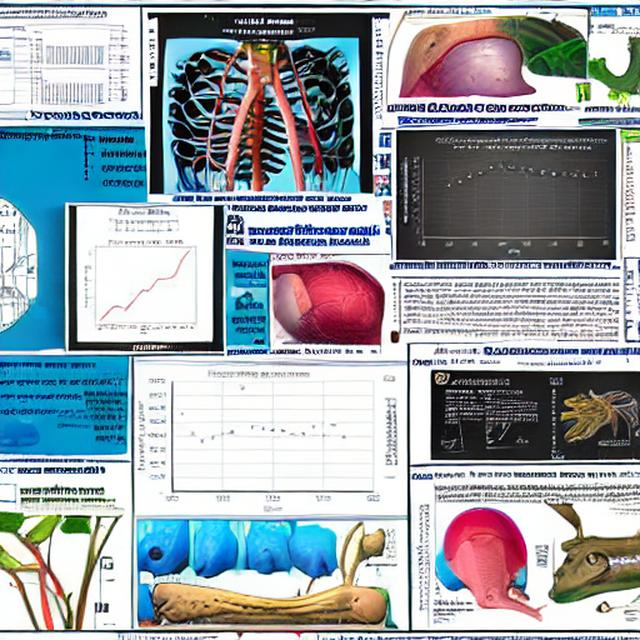Graph: (137, 367, 382, 513), (401, 132, 616, 260), (77, 234, 211, 335), (31, 66, 106, 110)
